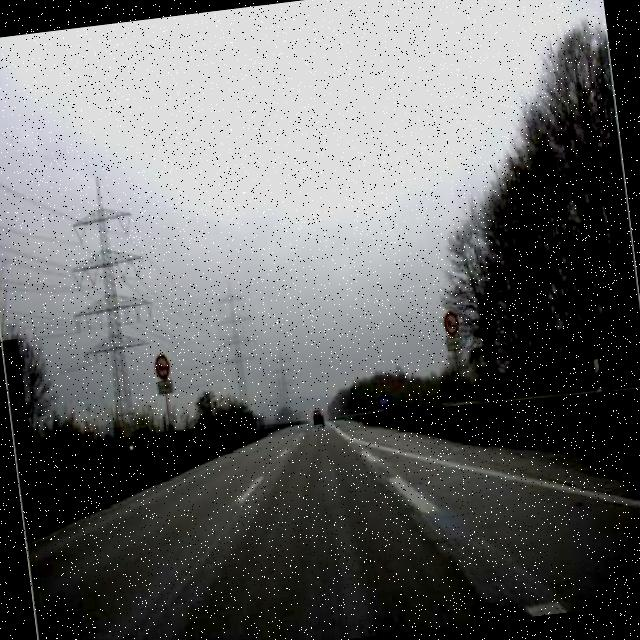Zakaz wyprzedzania: (152, 351, 172, 380), (442, 311, 459, 337)
